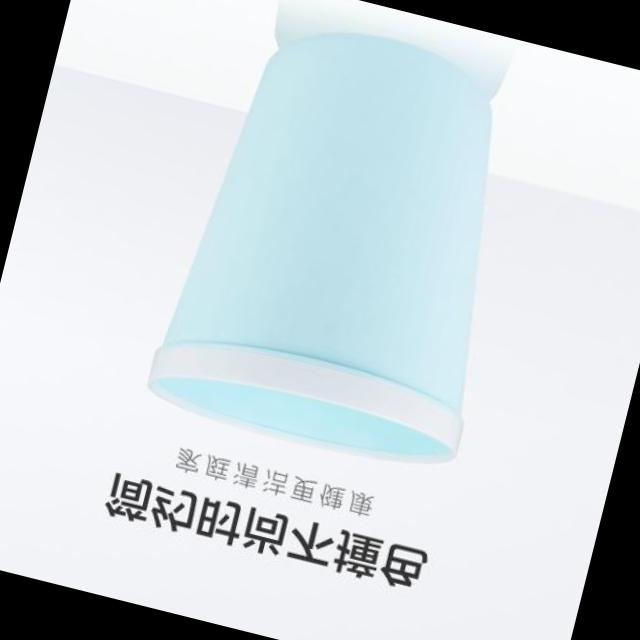dustbin: (134, 0, 560, 491)
